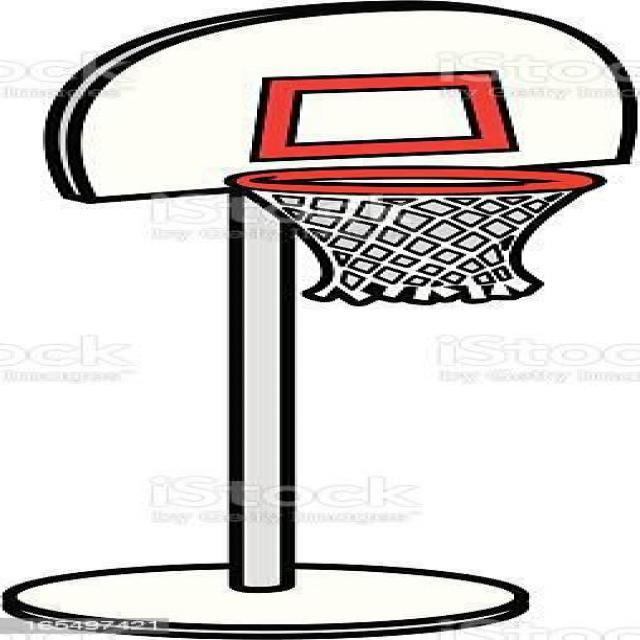hoop: (225, 166, 608, 307)
